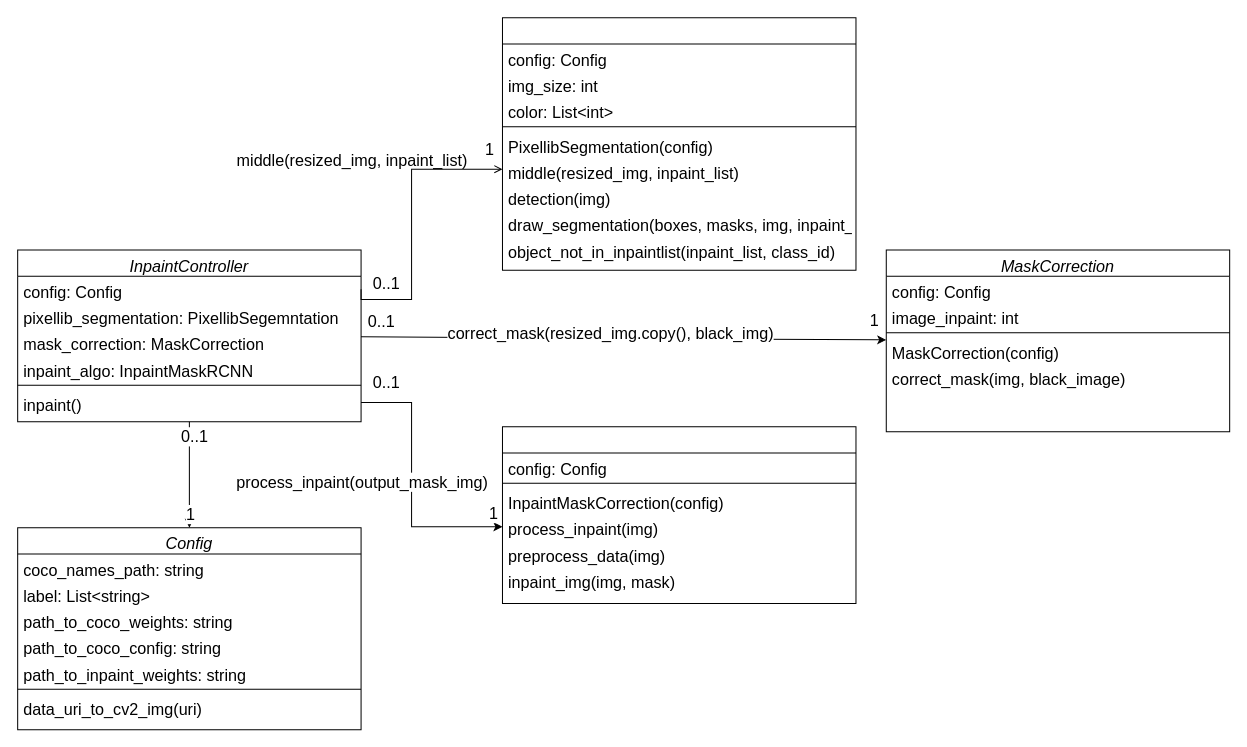
The diagram is 1247 pixels wide and 747 high, and some of its shapes have lost their labels. Each missing label, with the box of its shape:
InpaintModel: (501, 426, 856, 603)
PixelSegmentation: (501, 17, 856, 270)
